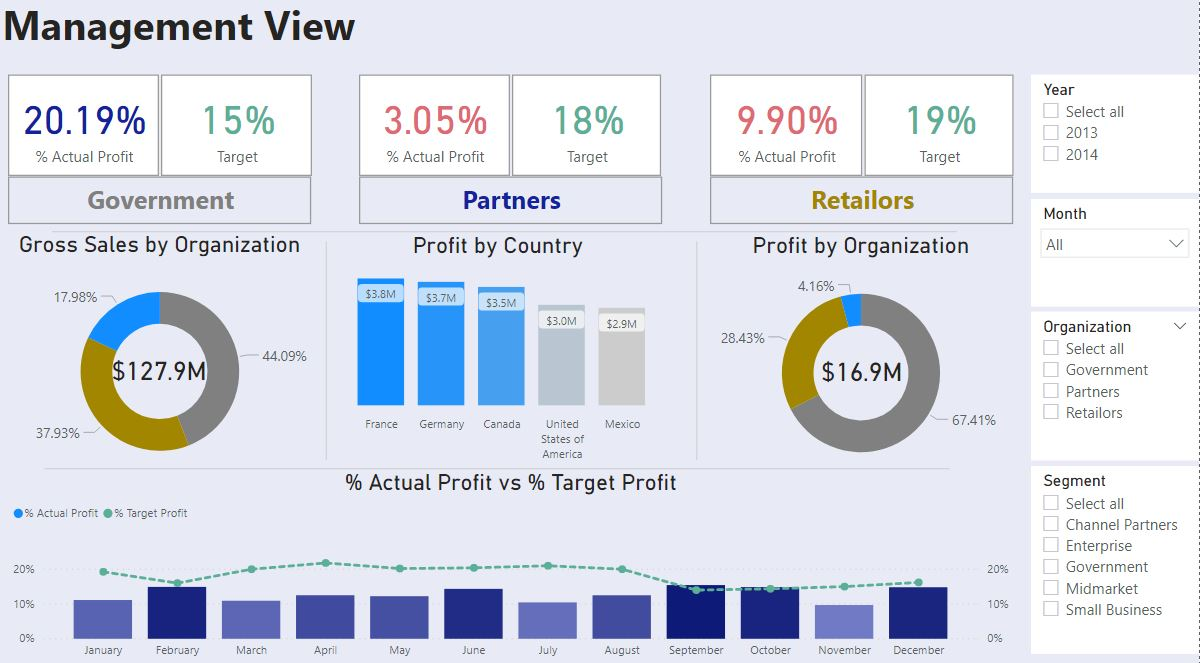

The page's visual inventory and layout, read from the dashboard file:
{"tool":"powerbi","page":{"name":"Management View","canvas":[1280,720],"ordinal":0},"visuals":[{"type":"slicer","fields":{"Values":["Organizational Structure.Organization"]},"box":[1101.4,340.3,178.6,159],"z":0},{"type":"lineClusteredColumnComboChart","title":"% Actual Profit vs % Target Profit","fields":{"Category":["Calendar.Month Name"],"Y":["Sales.%_Profit"],"Y2":["Avg(Profit Target.% Profit)"]},"box":[13.1,508.1,1070.2,211.4],"z":1000},{"type":"slicer","fields":{"Values":["Calendar.Year"]},"box":[1101.4,88.5,178.6,126.2],"z":2000},{"type":"slicer","fields":{"Values":["Calendar.Month Name"]},"box":[1101.4,220.2,178.6,114.7],"z":3000},{"type":"slicer","fields":{"Values":["Organizational Structure.Segment"]},"box":[1101.4,504.8,178.6,199.9],"z":4000},{"type":"donutChart","fields":{"Category":["Organizational Structure.Organization"],"Y":["Sum(Sales.Profit)"]},"box":[760.5,255.7,321.2,272.1],"z":5000},{"type":"card","fields":{"Values":["Sum(Sales.Profit)"]},"box":[865.4,354,111.4,96.7],"z":6000},{"type":"donutChart","fields":{"Category":["Organizational Structure.Organization"],"Y":["Sum(Sales.Gross Sales)"]},"box":[13.1,254,322.9,272.1],"z":7000},{"type":"card","fields":{"Values":["Sum(Sales.Gross Sales)"]},"box":[111.4,352.4,122.9,96.7],"z":8000},{"type":"textbox","box":[1.6,0,565.4,88.5],"z":9000},{"type":"card","fields":{"Values":["Sales.%_Profit"]},"box":[13.1,88.5,160.6,108.2],"z":10000},{"type":"card","fields":{"Values":["Profit Target.%_Profit_AVG"]},"box":[175.4,88.5,160.6,108.2],"z":11000},{"type":"card","fields":{"Values":["Sales.%_Profit"]},"box":[386.8,88.5,160.6,108.2],"z":12000},{"type":"card","fields":{"Values":["Profit Target.%_Profit_AVG"]},"box":[549,88.5,159,108.2],"z":13000},{"type":"card","fields":{"Values":["Sales.%_Profit"]},"box":[760.5,88.5,162.3,108.2],"z":14000},{"type":"card","fields":{"Values":["Profit Target.%_Profit_AVG"]},"box":[924.4,88.5,159,108.2],"z":15000},{"type":"textbox","box":[13.1,196.7,322.9,50.8],"z":16000},{"type":"textbox","box":[386.8,196.7,322.9,50.8],"z":17000},{"type":"textbox","box":[760.5,196.7,322.9,50.8],"z":18000},{"type":"basicShape","box":[41,491.7,983.4,31.1],"z":19000},{"type":"lineStackedColumnComboChart","fields":{"Category":["Sales.Country"],"Y":["Sum(Sales.Profit)"]},"box":[344.2,255.7,378.6,252.4],"z":20000},{"type":"basicShape","box":[49.2,239.3,983.4,31.1],"z":21000},{"type":"basicShape","box":[731,255.7,29.5,252.4],"z":22000},{"type":"basicShape","box":[337.6,255.7,29.5,252.4],"z":23000}]}

Visuals, with their boxes in screenshot pixels (x1, y1, x2, y2), scaled from the page's 1280x720 canvas onto the 1200x663 screenshot:
slicer - Organizational Structure.Organization: BBox(1033, 313, 1199, 460)
"% Actual Profit vs % Target Profit" lineClusteredColumnComboChart: BBox(12, 468, 1016, 662)
slicer - Calendar.Year: BBox(1033, 81, 1199, 198)
slicer - Calendar.Month Name: BBox(1033, 203, 1199, 308)
slicer - Organizational Structure.Segment: BBox(1033, 465, 1199, 649)
donutChart - Organizational Structure.Organization x Sum(Sales.Profit): BBox(713, 235, 1014, 486)
card - Sum(Sales.Profit): BBox(811, 326, 916, 415)
donutChart - Organizational Structure.Organization x Sum(Sales.Gross Sales): BBox(12, 234, 315, 484)
card - Sum(Sales.Gross Sales): BBox(104, 325, 220, 414)
textbox: BBox(2, 0, 532, 81)
card - Sales.%_Profit: BBox(12, 81, 163, 181)
card - Profit Target.%_Profit_AVG: BBox(164, 81, 315, 181)
card - Sales.%_Profit: BBox(363, 81, 513, 181)
card - Profit Target.%_Profit_AVG: BBox(515, 81, 664, 181)
card - Sales.%_Profit: BBox(713, 81, 865, 181)
card - Profit Target.%_Profit_AVG: BBox(867, 81, 1016, 181)
textbox: BBox(12, 181, 315, 228)
textbox: BBox(363, 181, 665, 228)
textbox: BBox(713, 181, 1016, 228)
basicShape: BBox(38, 453, 960, 481)
lineStackedColumnComboChart - Sales.Country x Sum(Sales.Profit): BBox(323, 235, 678, 468)
basicShape: BBox(46, 220, 968, 249)
basicShape: BBox(685, 235, 713, 468)
basicShape: BBox(316, 235, 344, 468)
